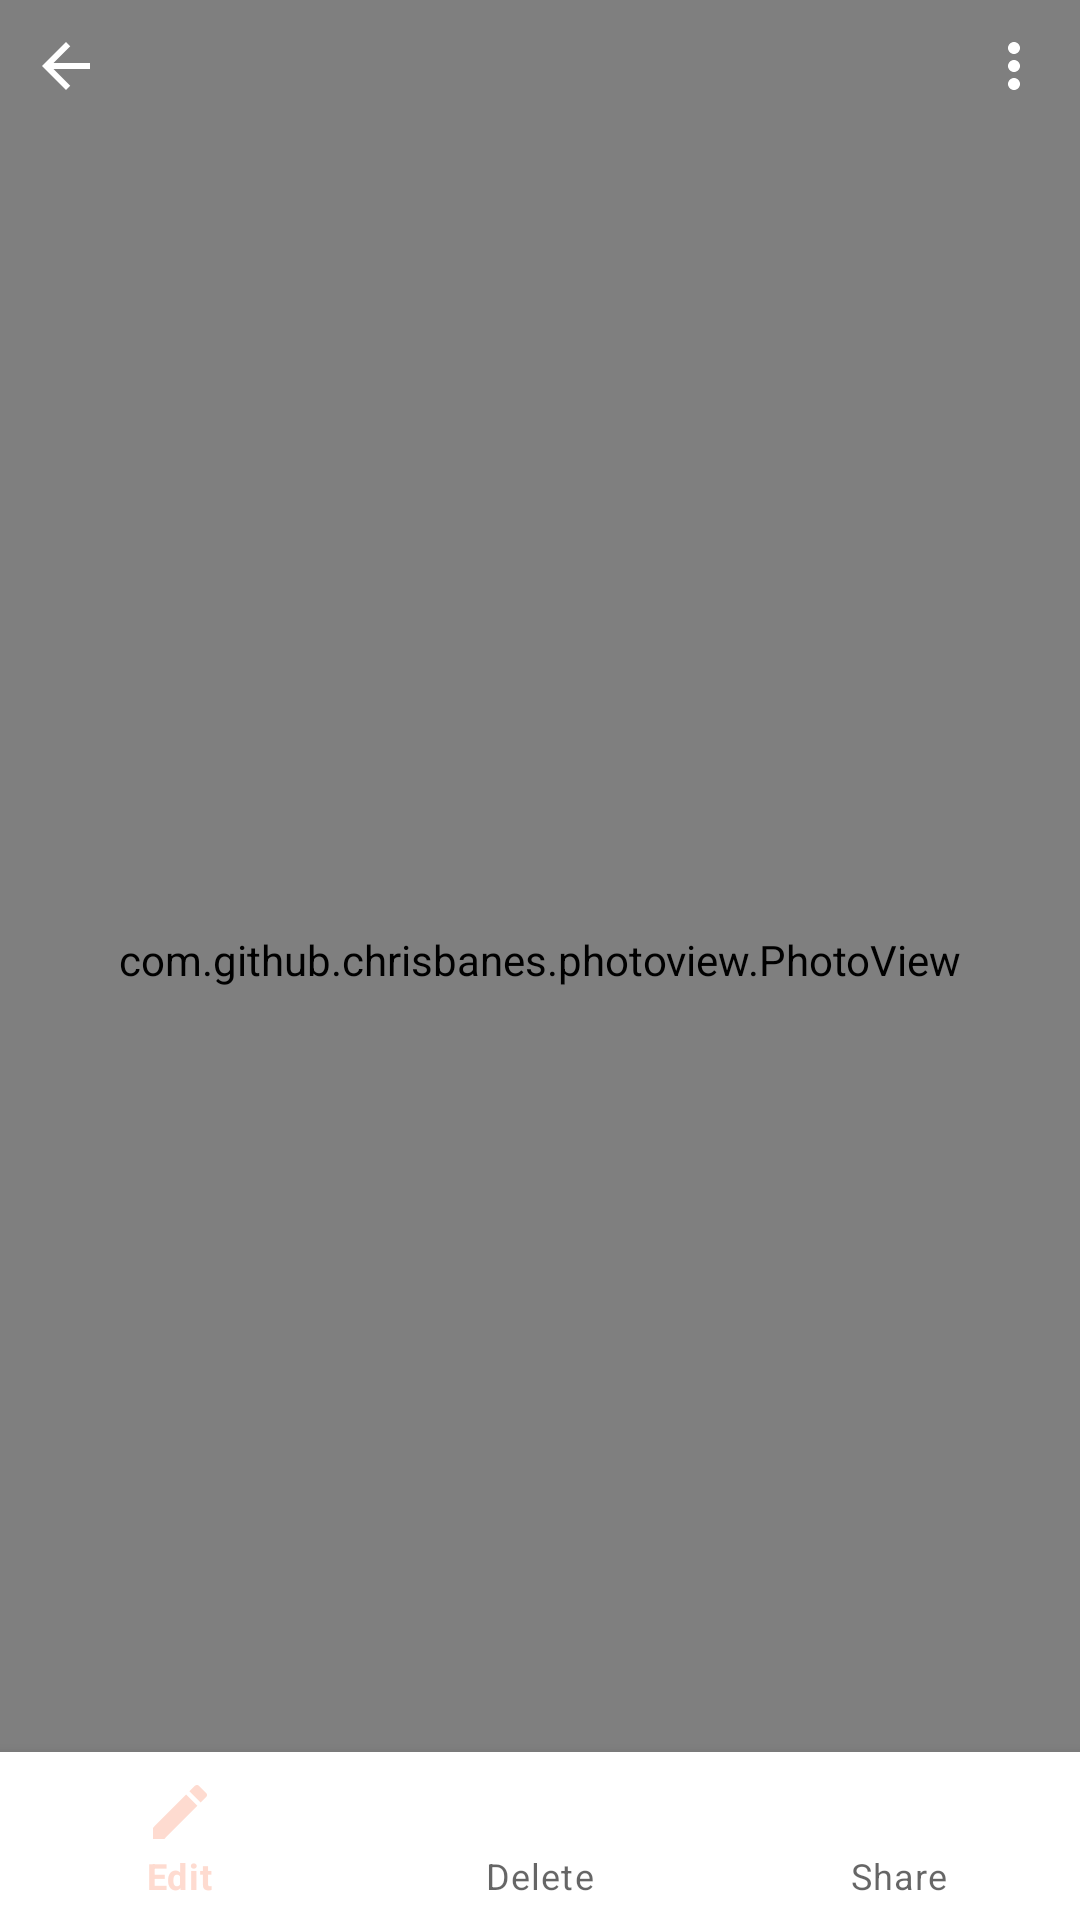

Screen size 1080px×1920px. Icon name, then its box in pixels as (x1,y1,x2,y2):
back: (42,42,90,90)
more: (1008,42,1020,90)
